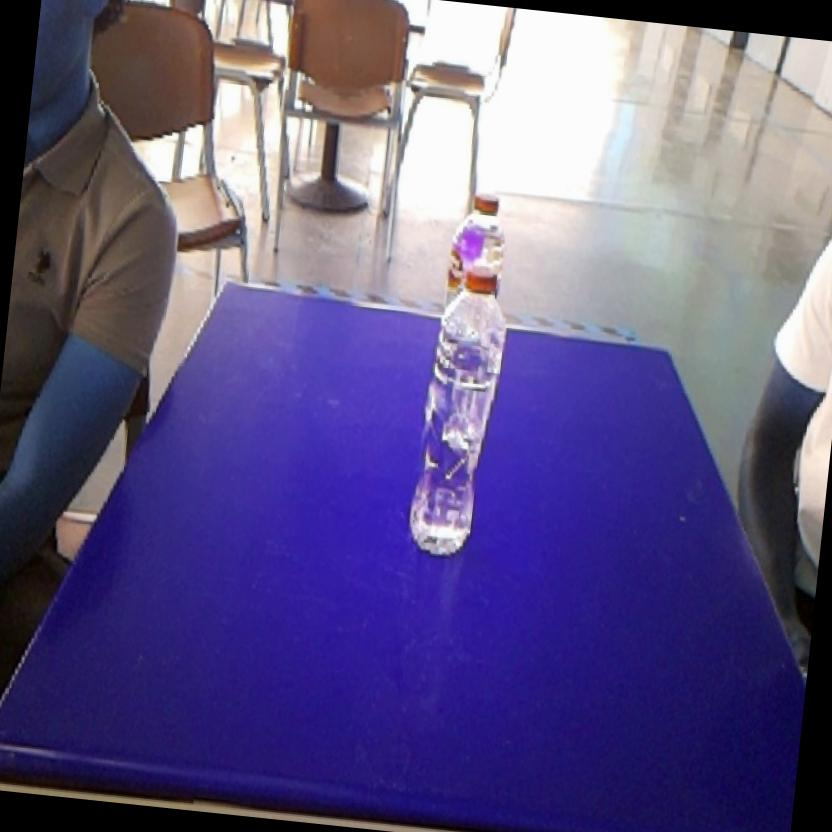good: (438, 174, 526, 266)
no_label: (399, 248, 522, 568)
